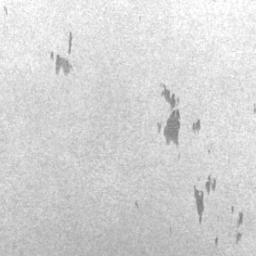Iron scale compression: (157, 85, 180, 146), (48, 51, 70, 76), (193, 188, 203, 225), (230, 205, 244, 227), (204, 180, 217, 194), (192, 119, 201, 136), (235, 232, 243, 245), (68, 34, 72, 55), (252, 102, 256, 116), (213, 237, 219, 246)
